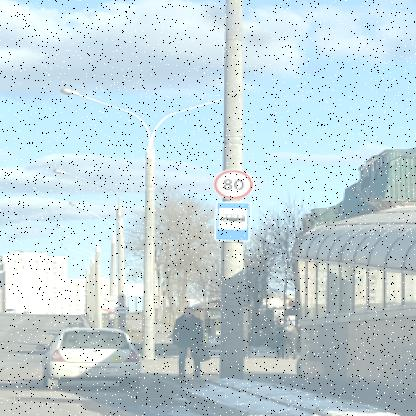speedlimit: (211, 168, 252, 198)
